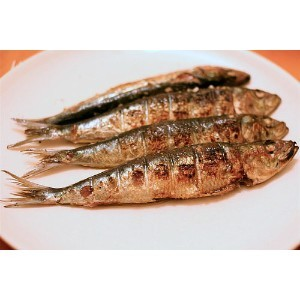sardine_brain food: (44, 68, 286, 196)
